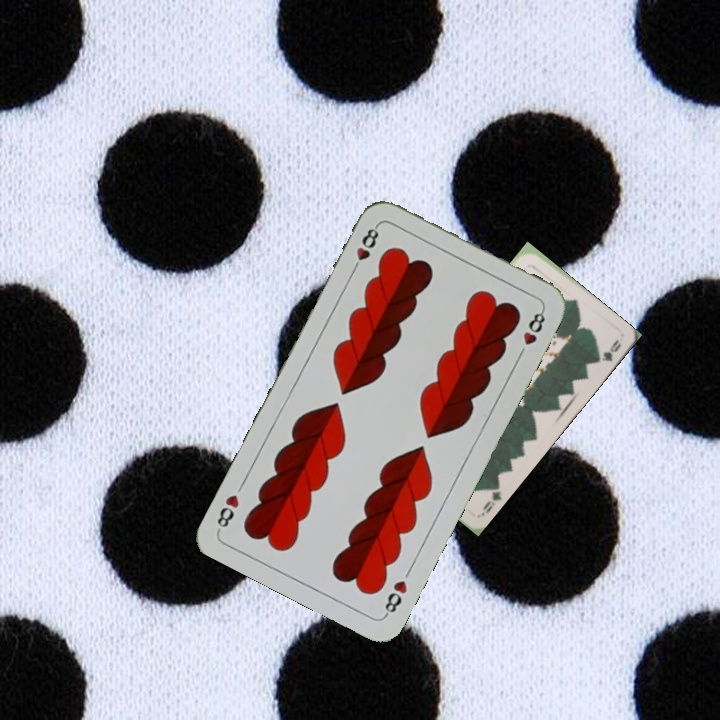G9: (477, 481, 504, 518)
H8: (348, 221, 381, 276), (380, 576, 410, 619)
